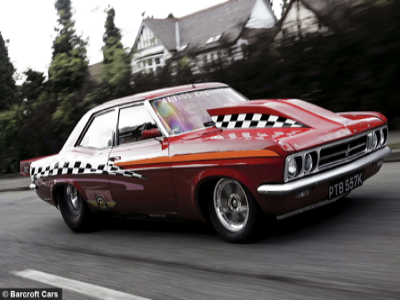licence: (330, 171, 366, 201)
